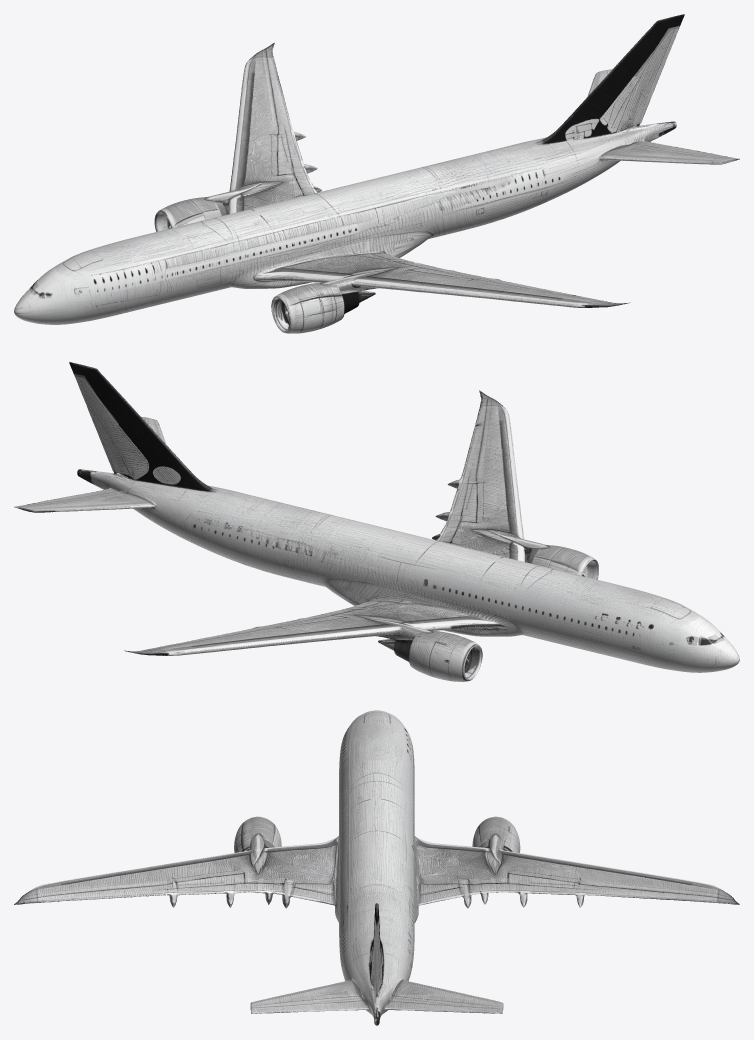
File: Airline.glb
3 views of the same model, one above another, from view 1: azimuth 30°, elevation 25°; view 2: azimuth 150°, elevation 25°; view 3: azimuth 270°, elevation 25° (orthographic). The views are drawn at different scales.
Bounding box in the file's own units: 1.9 × 0.4514 × 1.75.
1 material, 1 textured.
